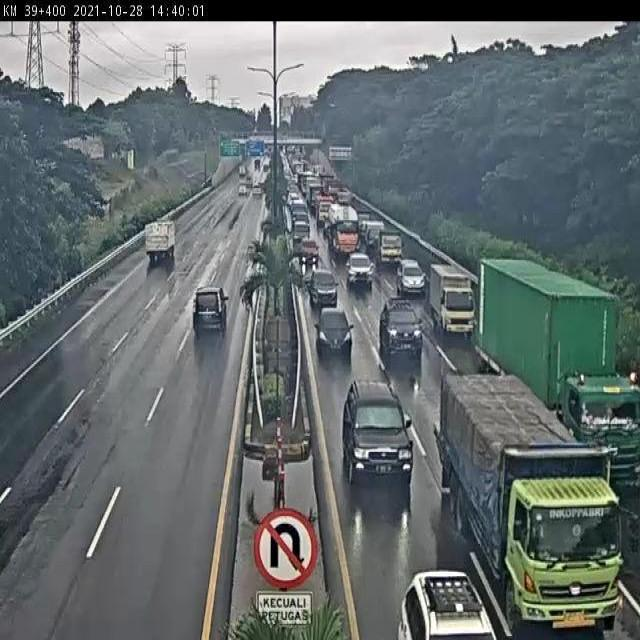car: (343, 377, 415, 480), (379, 299, 423, 355), (315, 305, 353, 355), (191, 287, 229, 333), (307, 267, 339, 307), (394, 259, 425, 295), (346, 252, 375, 287), (300, 236, 320, 265)
truck: (439, 370, 625, 640), (477, 259, 640, 488), (424, 261, 472, 331), (325, 196, 358, 253), (143, 217, 179, 264), (375, 231, 404, 267)
